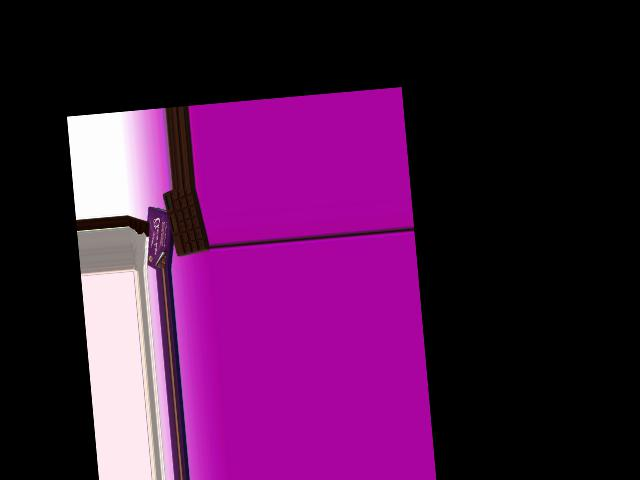chocolate: (161, 189, 210, 256)
